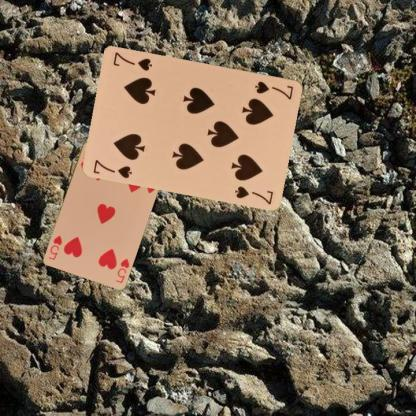5h: (113, 255, 130, 284)
7s: (90, 156, 134, 180), (252, 79, 295, 100)
